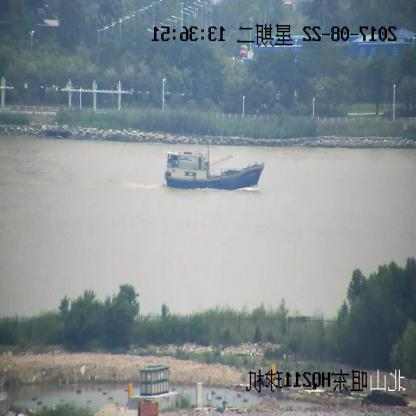Fishing Boat: (165, 139, 263, 192)
